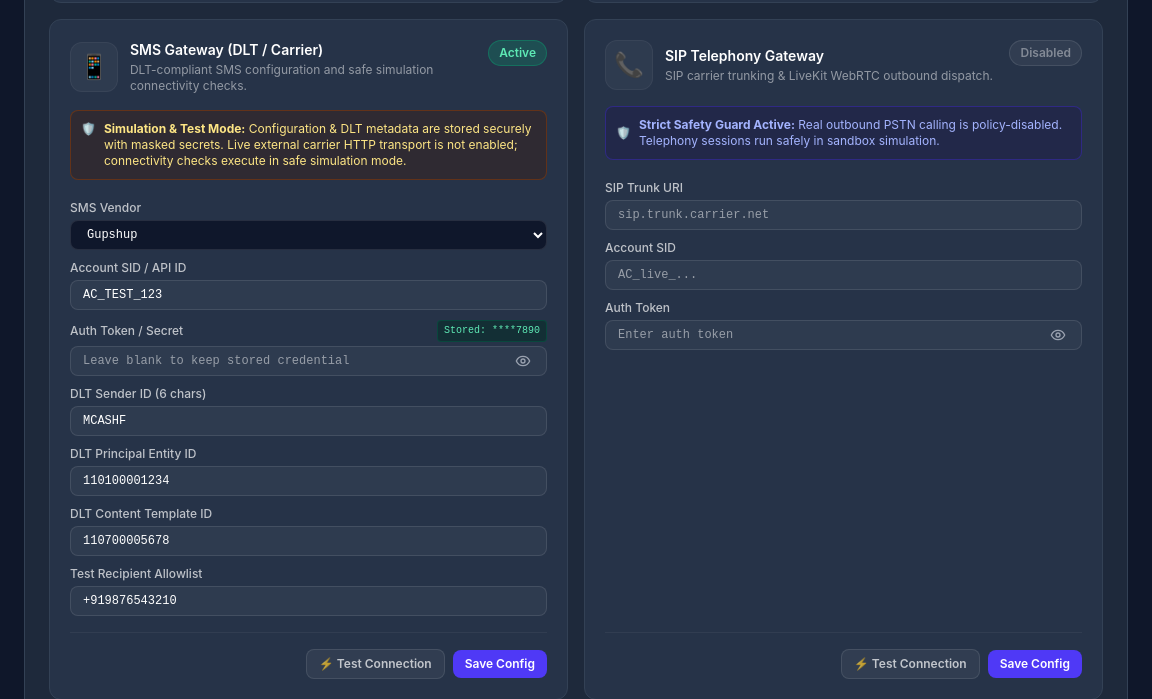
P2-06: Settings Compliance Audit Trail & SMS_GATEWAY › SMS_GATEWAY integration settings › sends new authToken when explicitly entered and masks returned secret without prefilling
(page scrolled)
Type "new_secret_token_9999" into the password field labelled "Auth Token / Secret" at (308, 361), box [70,346,547,376]
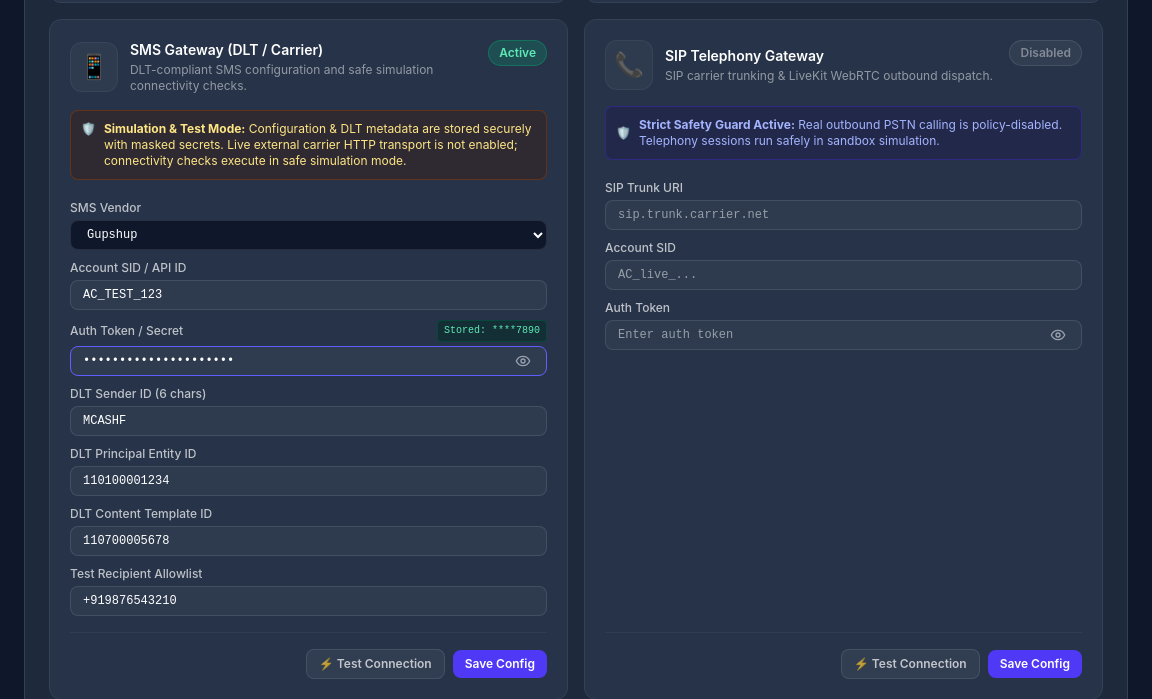
Click the button "Save Config" below "DLT Content Template ID" at (500, 664), box [453,650,547,678]
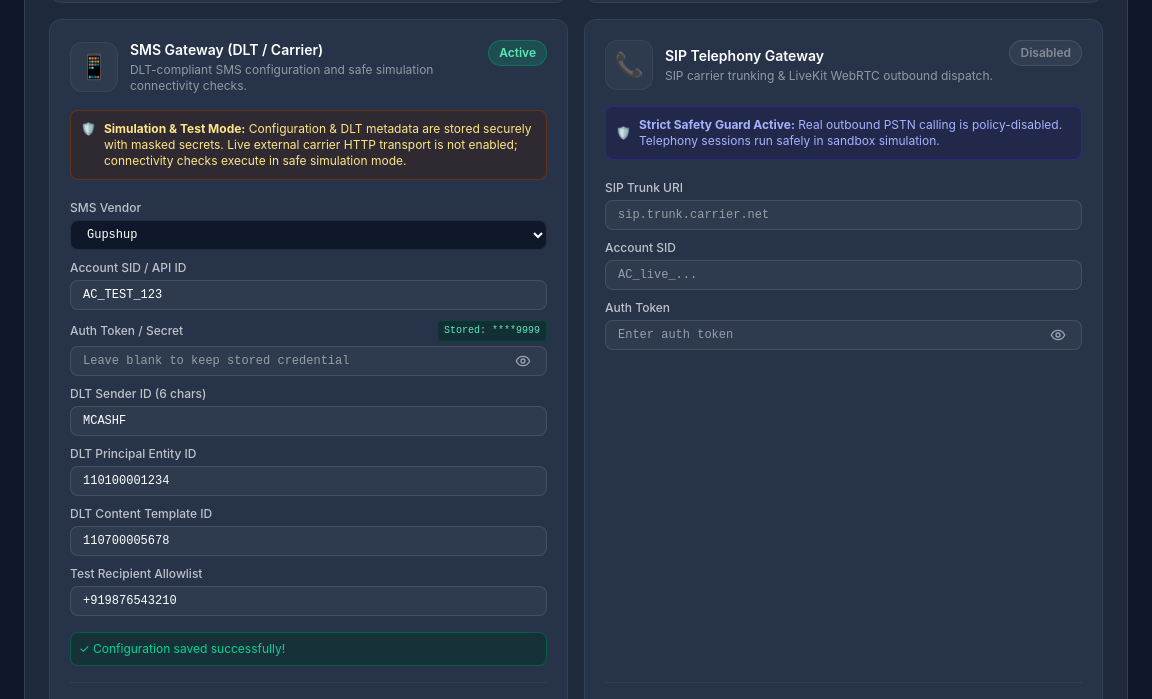
Check: the password field labelled "Auth Token / Secret" is empty, box [70,346,547,376]
Check: the text "Stored: ****9999" is shown, box [437,320,547,342]
